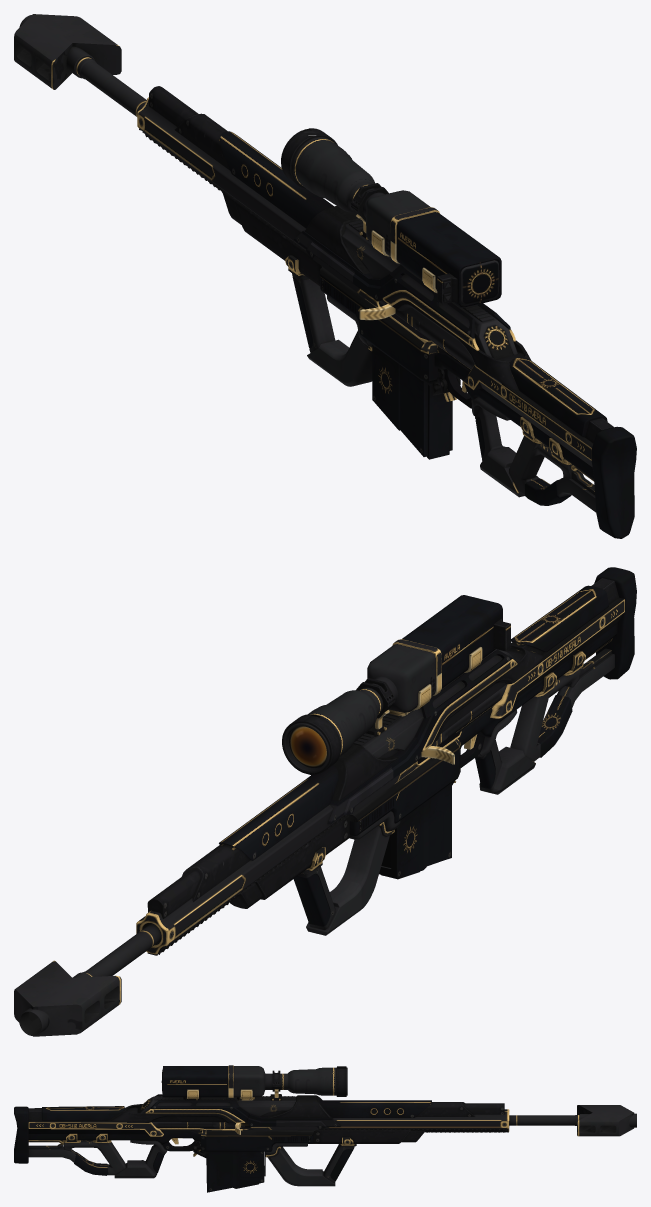
File: eclisse.glb
3 renders of one model, top to bottom at view 1: azimuth 30°, elevation 25°; view 2: azimuth 150°, elevation 25°; view 3: azimuth 270°, elevation 25°, orthographic. The views are drawn at different scales.
Parts seen in each view (by area): view 1: eclisse_body, eclisse_mag, eclisse_bolt; view 2: eclisse_body, eclisse_mag, eclisse_bolt; view 3: eclisse_body, eclisse_mag, eclisse_bolt.
Part boxes in pixels (<box>): eclisse_body: <box>14,14,636,538</box>; eclisse_mag: <box>372,345,452,459</box>; eclisse_bolt: <box>359,300,501,383</box>; eclisse_body: <box>14,567,636,1036</box>; eclisse_mag: <box>379,783,451,879</box>; eclisse_bolt: <box>418,684,507,764</box>; eclisse_body: <box>14,1065,636,1186</box>; eclisse_mag: <box>206,1151,265,1192</box>; eclisse_bolt: <box>143,1122,249,1134</box>.
Bounding box in the file's own units: 0.1972 × 0.4721 × 2.18.
Materials: 1 (1 with a texture image).
